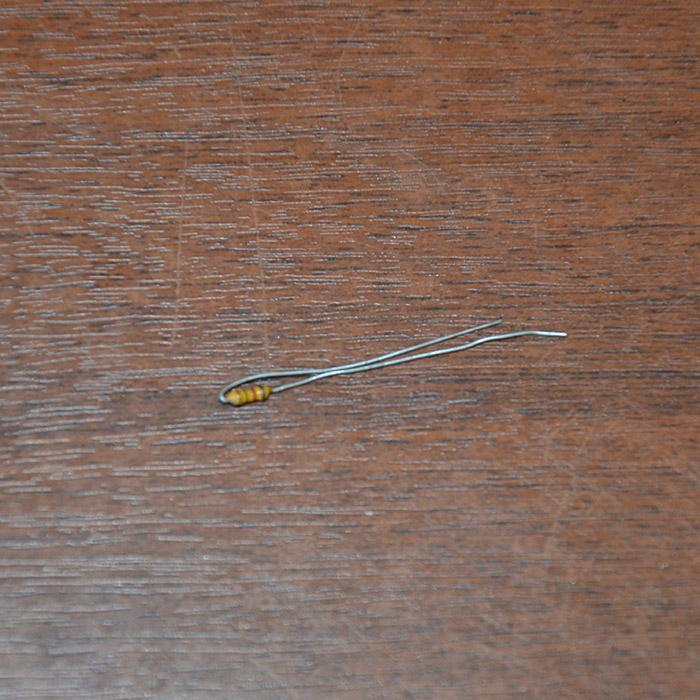resistor: (222, 383, 272, 406)
